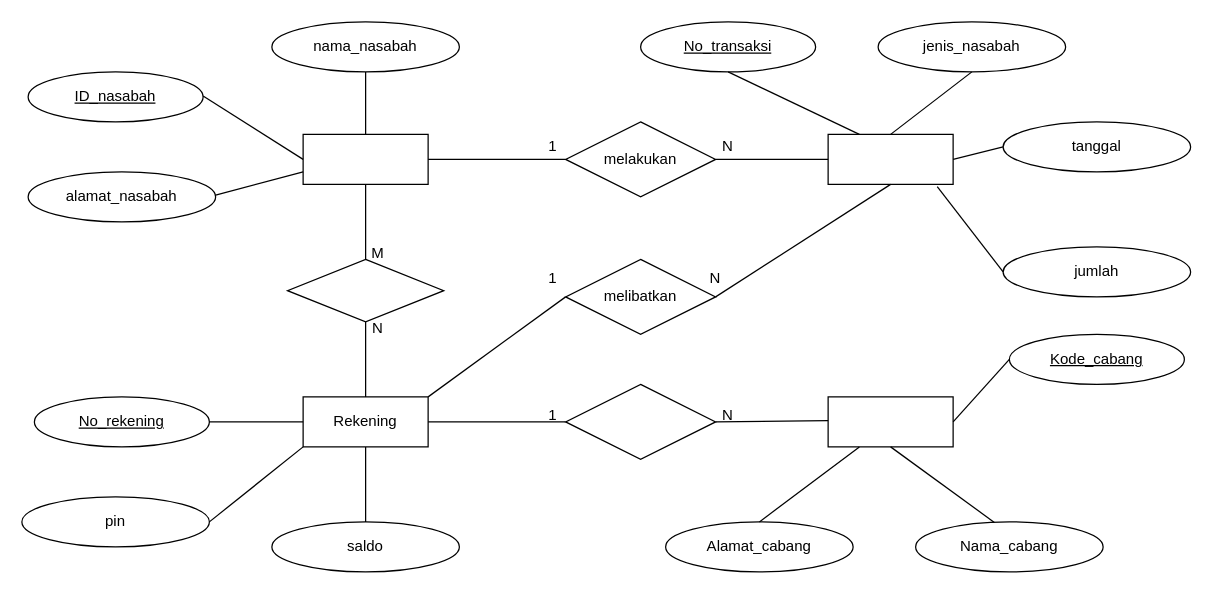
The diagram is 1213 pixels wide and 594 high, and some of its shapes have lost their labels. Each missing label, with the centre of its shape:
"Cabang_bank" goes at (x=890, y=421).
"ditangani" goes at (x=640, y=421).
"memiliki" goes at (x=365, y=290).
"Nasabah" goes at (x=365, y=158).
"Transaksi" goes at (x=890, y=158).
